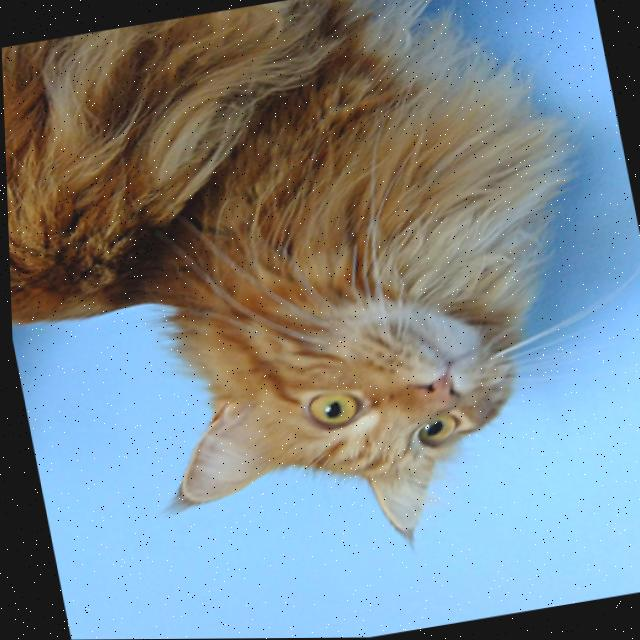Maine Coon: (0, 0, 640, 605)
